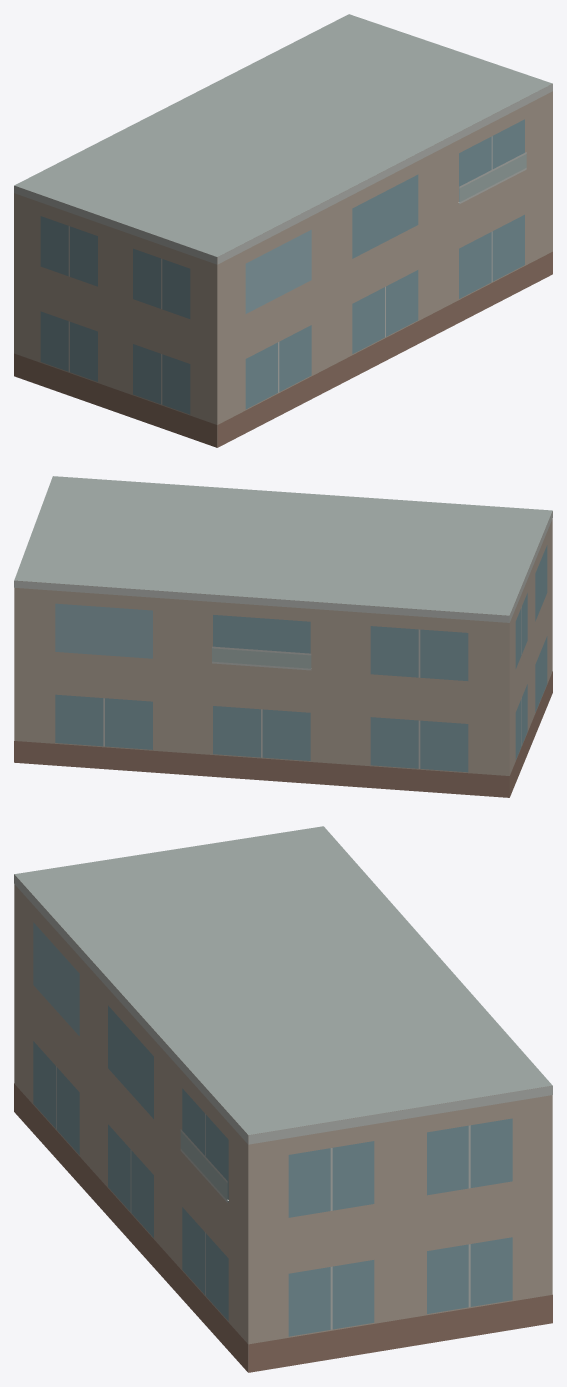
File: survey-upis-32846606.glb
The picture shows the model from 3 angles, top to bottom: view 1: azimuth 30°, elevation 25°; view 2: azimuth 150°, elevation 25°; view 3: azimuth 270°, elevation 25°; orthographic projection. The views are drawn at different scales.
Parts seen in each view (by area): view 1: survey-upis-32846606.tmp; view 2: survey-upis-32846606.tmp; view 3: survey-upis-32846606.tmp.
Part boxes in pixels (x1,y1,x2,y2): survey-upis-32846606.tmp: (14,14,552,447); survey-upis-32846606.tmp: (14,476,552,797); survey-upis-32846606.tmp: (14,826,552,1372).
Size of the model in its own units: 17.03 by 6.1 by 12.54.
